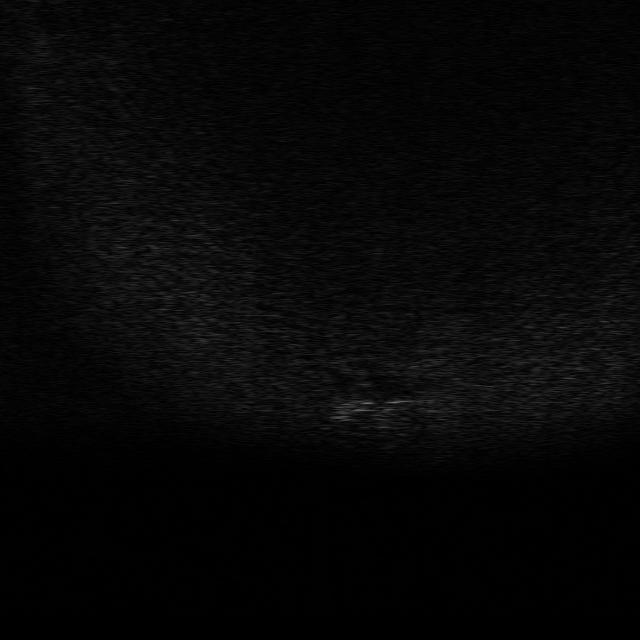plane: (324, 384, 414, 428)
